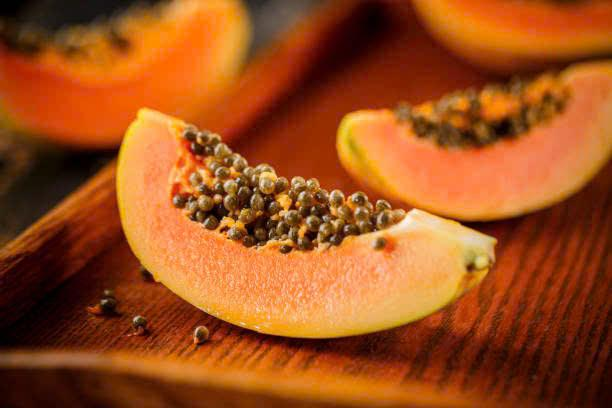papaya: (108, 106, 496, 349), (325, 53, 612, 218)
